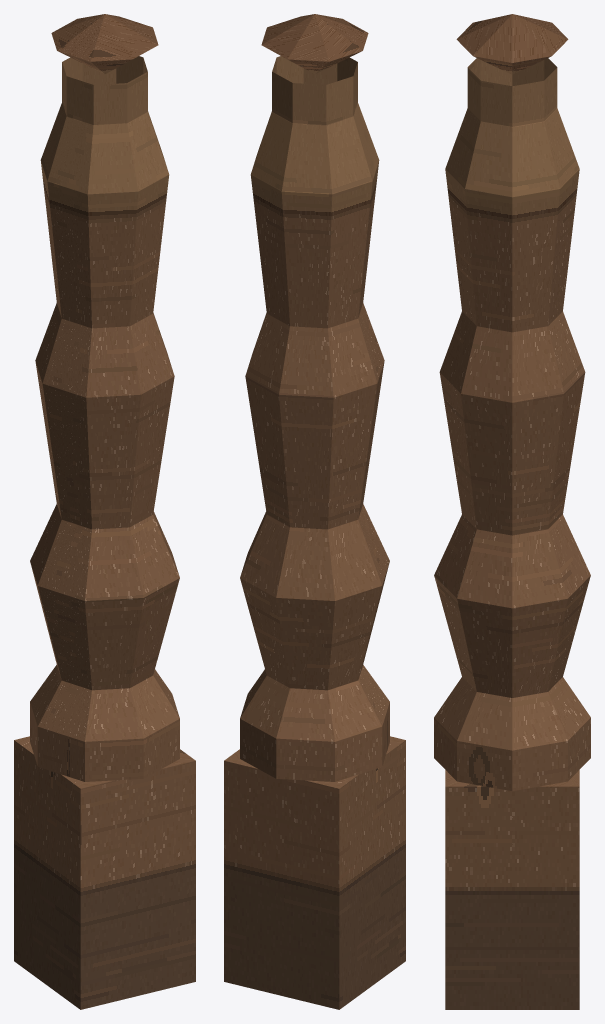
Rendered from TruDauThang.glb.
3 views of the same model, side by side, from view 1: azimuth 30°, elevation 25°; view 2: azimuth 150°, elevation 25°; view 3: azimuth 270°, elevation 25° (orthographic).
Parts seen in each view (by area): view 1: geometry_0; view 2: geometry_0; view 3: geometry_0.
Boxes of the visible parts, <box> form: geometry_0: <box>14,14,195,1009</box>; geometry_0: <box>224,14,405,1009</box>; geometry_0: <box>434,14,590,1009</box>.
Size of the model in its own units: 0.14 by 0.9525 by 0.14.
1 material, 1 textured.
